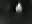person: (16, 4, 24, 16)
